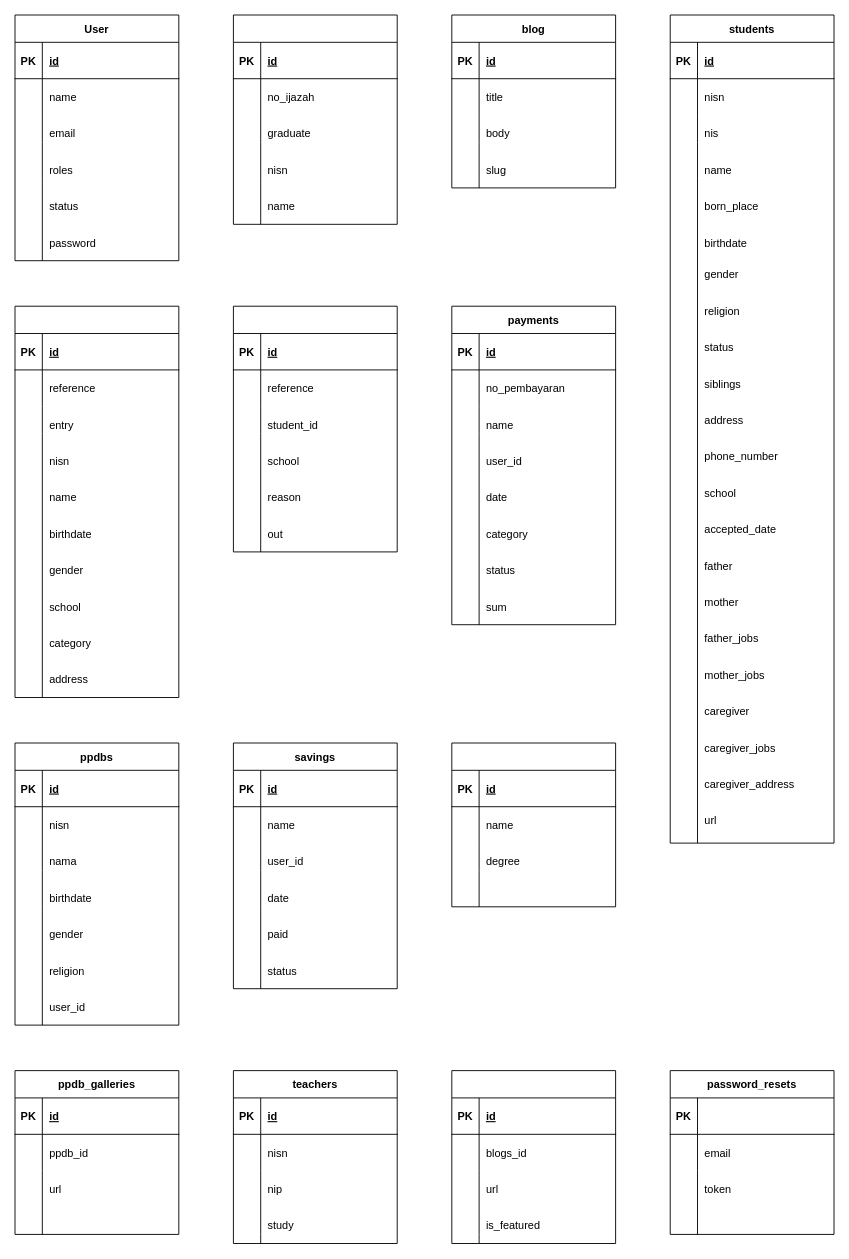
The diagram is 849 pixels wide and 1259 high, and some of its shapes have lost their labels. The shapes that lost their labels are listed below. From the top down, each one's box as (x1, y1, x2, y2) in pixels, then its label:
(233, 14, 397, 224): Alumnus
(233, 305, 397, 552): outmutations
(14, 305, 179, 698): inmutations
(451, 742, 616, 907): rooms
(451, 1070, 616, 1244): blog_galleries
